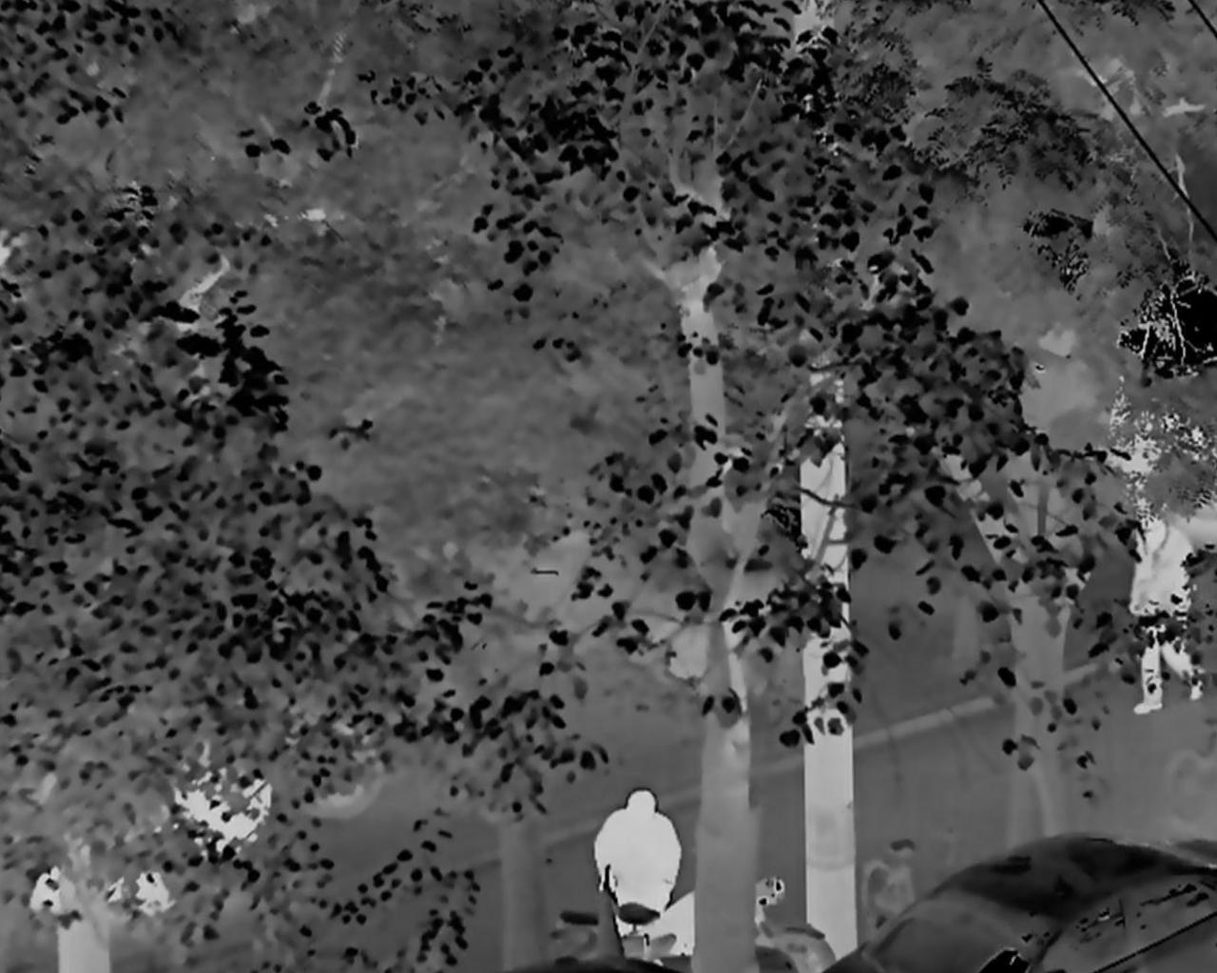person: (1125, 508, 1207, 714), (592, 790, 681, 935)
